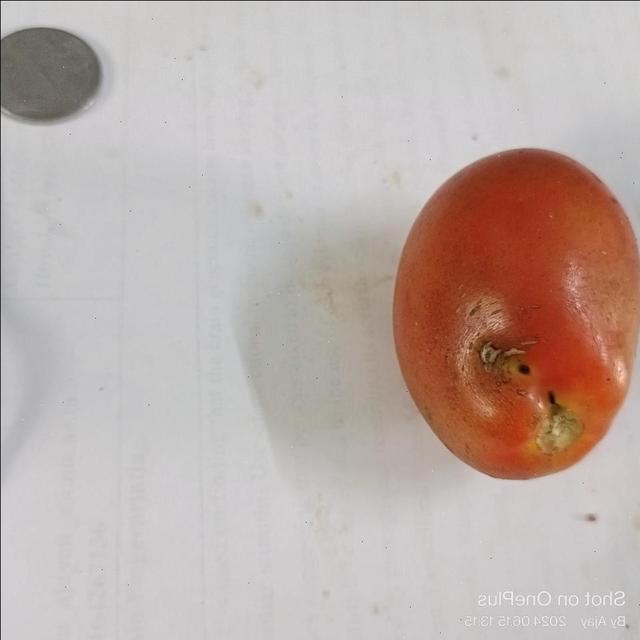Bacterial Spot Fruit: (16, 20, 368, 266)
